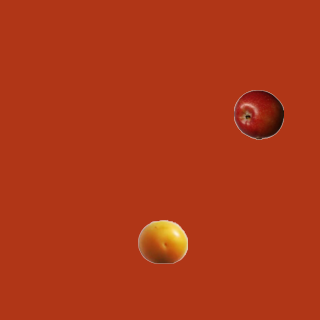Apple Braeburn: (233, 89, 283, 139)
Cherry Wax Yellow: (137, 216, 187, 266)
